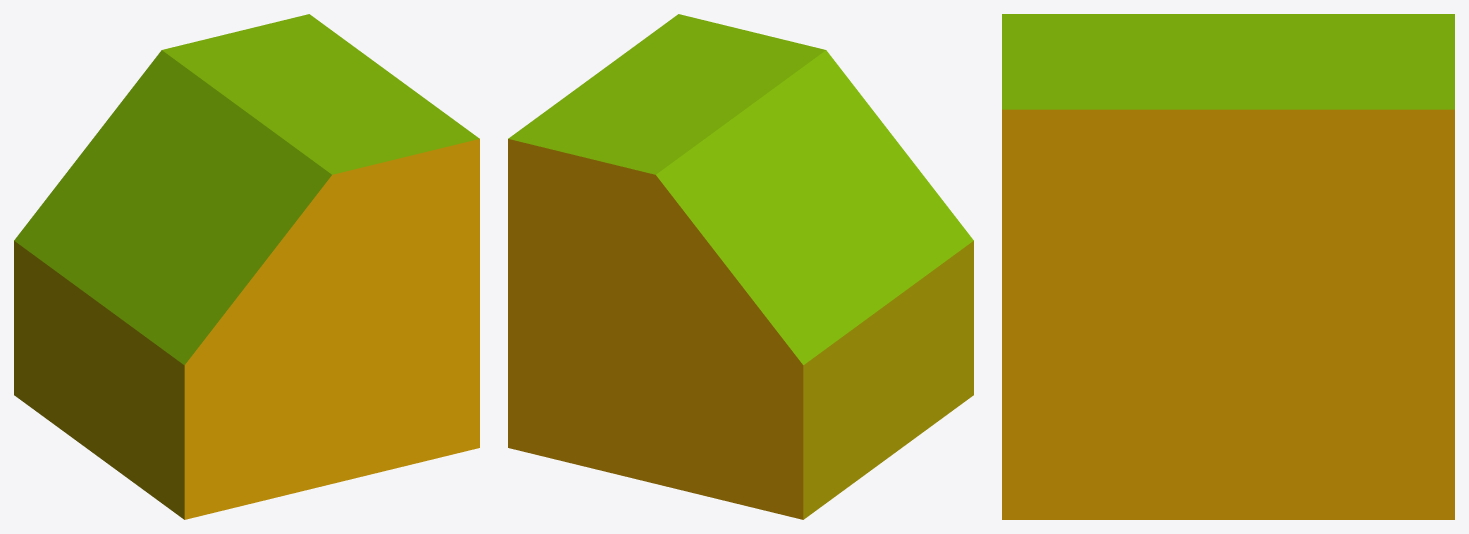
The model's file is block_chamfered.dae.
3 renders of one model, left to right at view 1: azimuth 30°, elevation 25°; view 2: azimuth 150°, elevation 25°; view 3: azimuth 270°, elevation 25°, orthographic. The views are drawn at different scales.
Visible parts, largest first — view 1: Cube; view 2: Cube; view 3: Cube.
Part boxes in pixels (x1,y1,x2,y2): Cube: (14,14,479,519); Cube: (508,14,973,519); Cube: (1002,14,1454,519).
Size of the model in its own units: 0.25 by 0.25 by 0.25.
